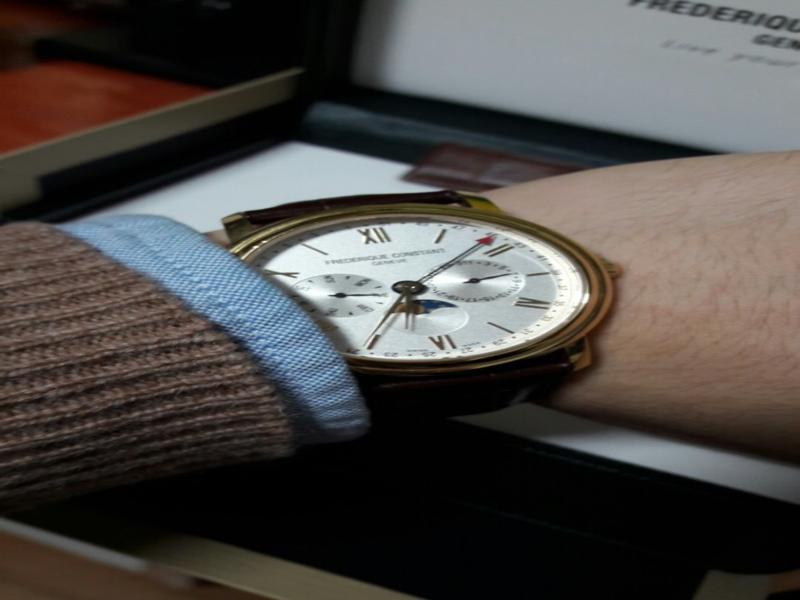watch: (216, 189, 627, 447)
